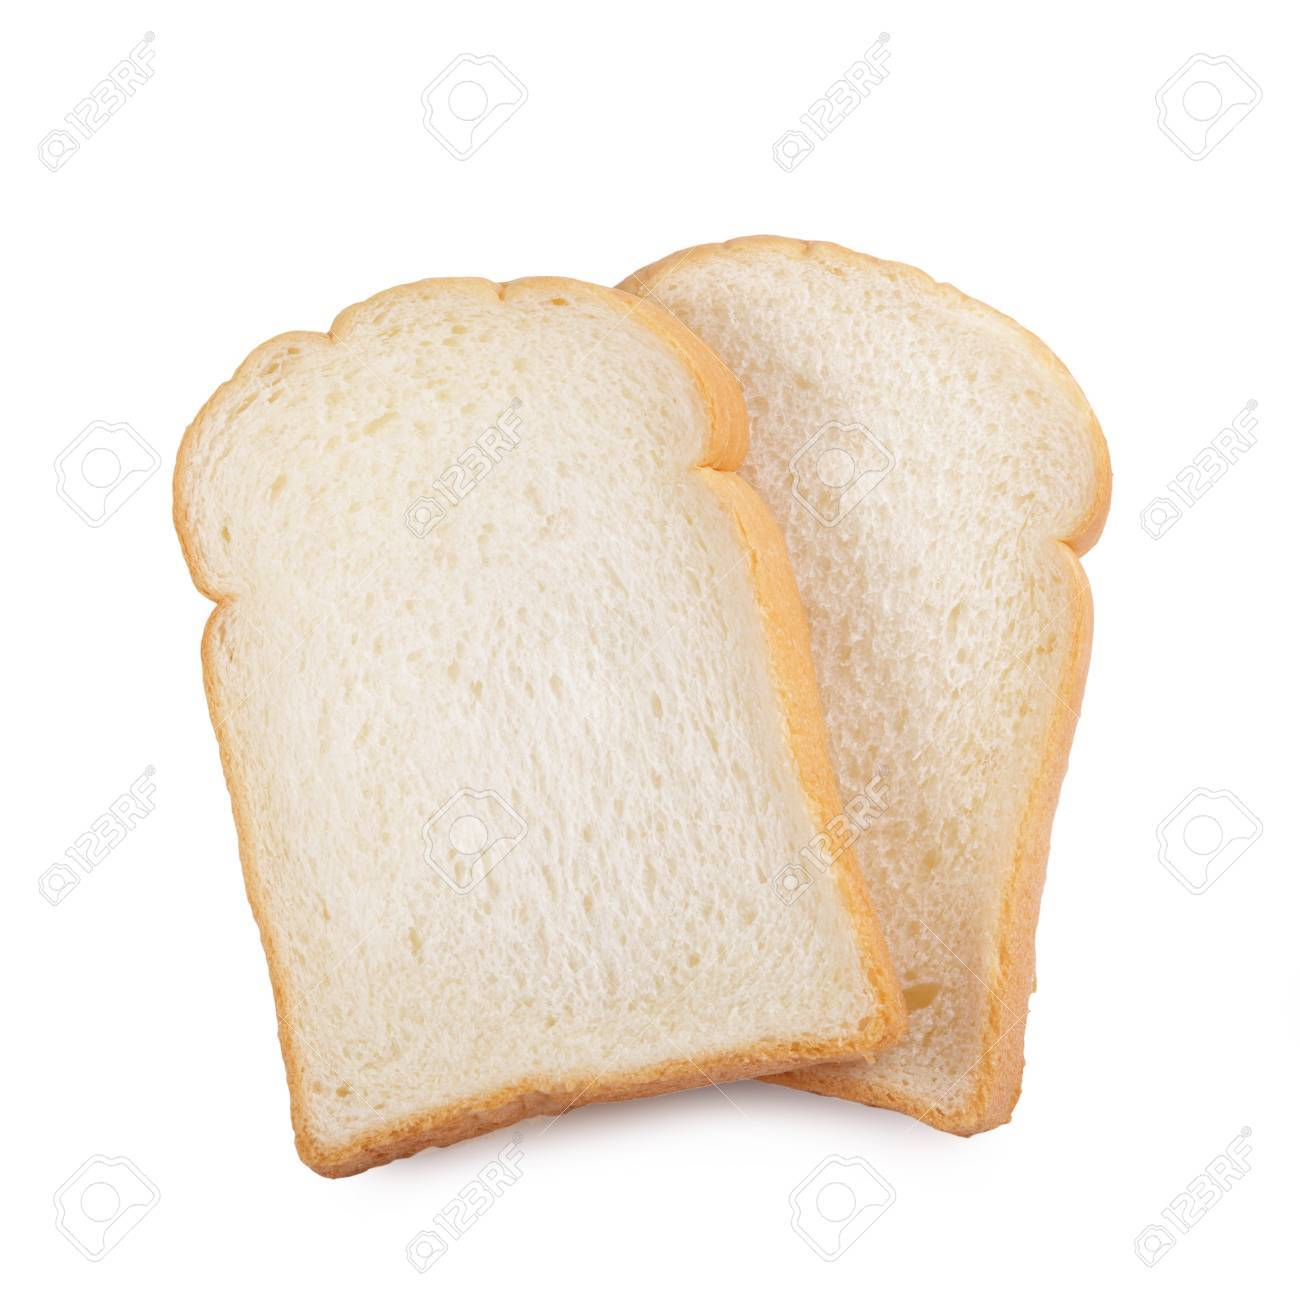slice of bread: (150, 215, 1148, 1188)
